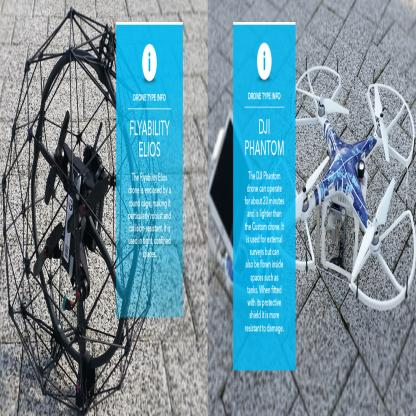drone: (272, 65, 416, 328)
